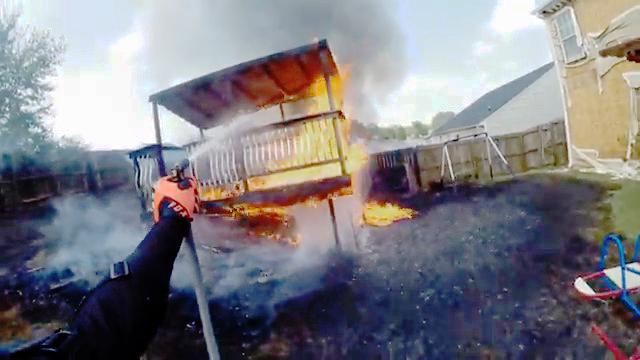fire: (363, 197, 406, 228), (303, 82, 330, 111)
smoke: (53, 190, 128, 252), (324, 6, 400, 66), (297, 212, 328, 253)
